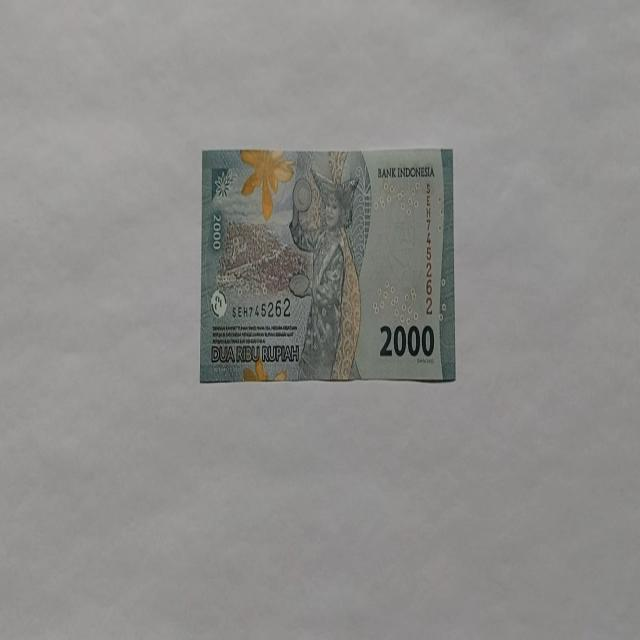dua ribu rupiah: (199, 146, 456, 384), (287, 162, 363, 380)
